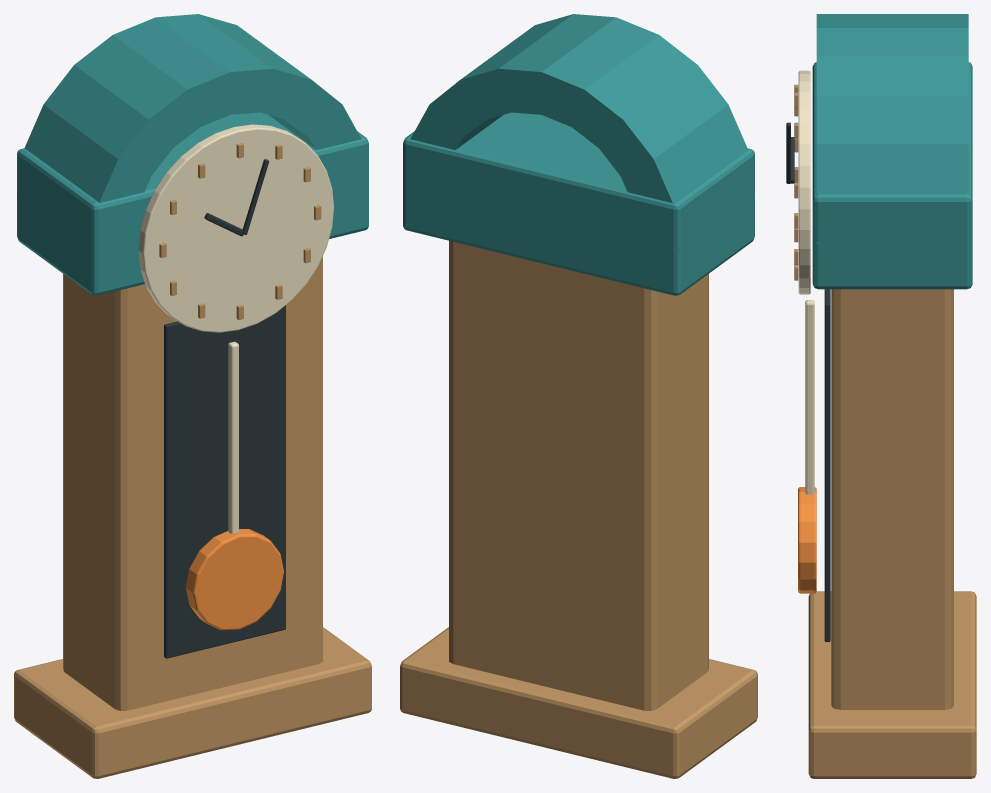
Rendered from S096_giant_clock.glb.
3 renders of one model, left to right at view 1: azimuth 30°, elevation 25°; view 2: azimuth 150°, elevation 25°; view 3: azimuth 270°, elevation 25°, orthographic.
Visible parts, largest first — view 1: clock_case, pendulum_recess, clock_face, clock_foot, clock_hood, pendulum_bob, clock_crown_07, clock_crown_06, clock_crown_08, clock_crown_05, clock_crown_04, clock_crown_03 (+3 smaller); view 2: clock_case, clock_hood, clock_foot, clock_crown_07, clock_crown_06, clock_crown_08, clock_crown_05, clock_crown_04, clock_crown_03, clock_crown_02, clock_crown_01; view 3: clock_case, clock_foot, clock_hood, clock_crown_01, clock_crown_02, clock_crown_03, clock_crown_04, clock_face, pendulum_recess, clock_crown_05, pendulum_bob, pendulum_arm.
Part boxes in pixels (left/top/right/bottom): clock_case: left=63, top=256, right=322, bottom=710; pendulum_recess: left=164, top=305, right=285, bottom=658; clock_face: left=138, top=124, right=333, bottom=332; clock_foot: left=14, top=627, right=371, bottom=778; clock_hood: left=17, top=112, right=368, bottom=295; pendulum_bob: left=186, top=529, right=283, bottom=630; clock_crown_07: left=43, top=65, right=172, bottom=175; clock_crown_06: left=74, top=35, right=199, bottom=147; clock_crown_08: left=24, top=104, right=150, bottom=203; clock_crown_05: left=113, top=17, right=230, bottom=126; clock_crown_04: left=156, top=14, right=272, bottom=114; clock_crown_03: left=199, top=14, right=311, bottom=120; clock_case: left=449, top=240, right=708, bottom=710; clock_hood: left=403, top=112, right=754, bottom=295; clock_foot: left=400, top=627, right=757, bottom=778; clock_crown_07: left=599, top=65, right=728, bottom=175; clock_crown_06: left=572, top=35, right=697, bottom=147; clock_crown_08: left=621, top=104, right=747, bottom=203; clock_crown_05: left=541, top=17, right=658, bottom=126; clock_crown_04: left=499, top=14, right=615, bottom=114; clock_crown_03: left=460, top=14, right=572, bottom=120; clock_crown_02: left=429, top=80, right=486, bottom=137; clock_crown_01: left=410, top=105, right=502, bottom=150; clock_case: left=831, top=289, right=953, bottom=709; clock_foot: left=808, top=591, right=976, bottom=778; clock_hood: left=812, top=62, right=972, bottom=289; clock_crown_01: left=816, top=144, right=968, bottom=193; clock_crown_02: left=816, top=96, right=968, bottom=144; clock_crown_03: left=816, top=56, right=968, bottom=96; clock_crown_04: left=816, top=28, right=968, bottom=56; clock_face: left=798, top=70, right=810, bottom=294; pendulum_recess: left=824, top=289, right=830, bottom=641; clock_crown_05: left=816, top=14, right=968, bottom=27; pendulum_bob: left=798, top=487, right=816, bottom=593; pendulum_arm: left=805, top=300, right=814, bottom=494.
Bounding box in the file's own units: 1.23 × 2.83 × 0.714.
